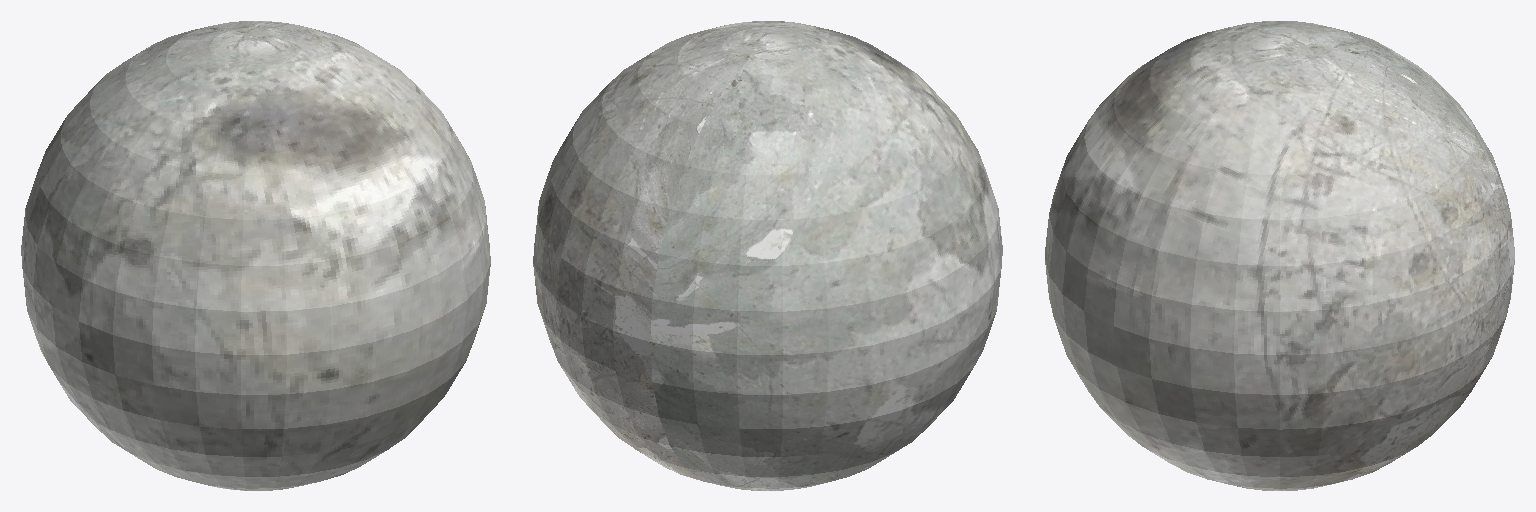
3 renders of one model, left to right at view 1: azimuth 30°, elevation 25°; view 2: azimuth 150°, elevation 25°; view 3: azimuth 270°, elevation 25°, orthographic.
Parts seen in each view (by area): view 1: Sphere; view 2: Sphere; view 3: Sphere.
Boxes of the visible parts, x1,y1,x2,y2 form: Sphere: [21, 21, 490, 490]; Sphere: [533, 21, 1002, 490]; Sphere: [1045, 21, 1514, 490].
Size of the model in its own units: 70.57 by 70.57 by 70.57.
1 materials, 1 textured.